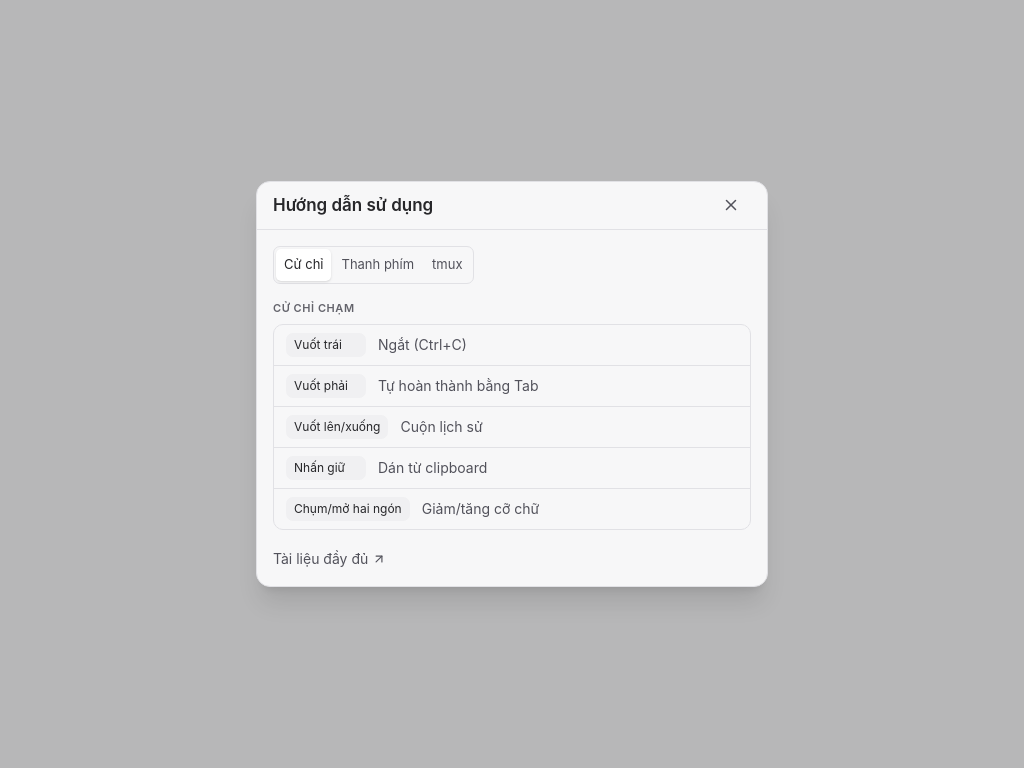
Test case: Usage Guide in Vietnamese › tmux: the prefix and the keys as tmux takes them
Click the radio button labelled "tmux". click: {"x": 447, "y": 265}
box: [424,249,470,281]
(page scrolled)
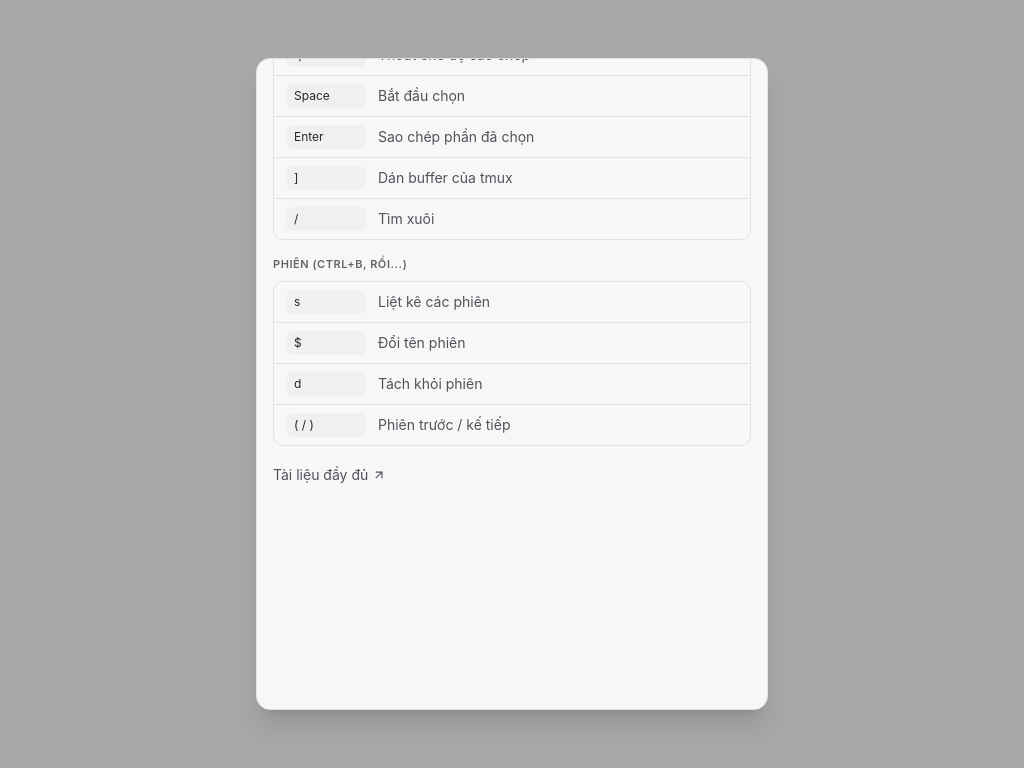
Expected: the text "Tách khỏi phiên" is shown, [378,374,482,394]
